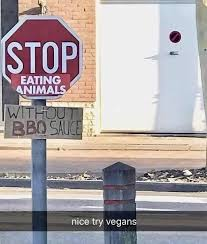stop sign: (1, 15, 82, 99)
